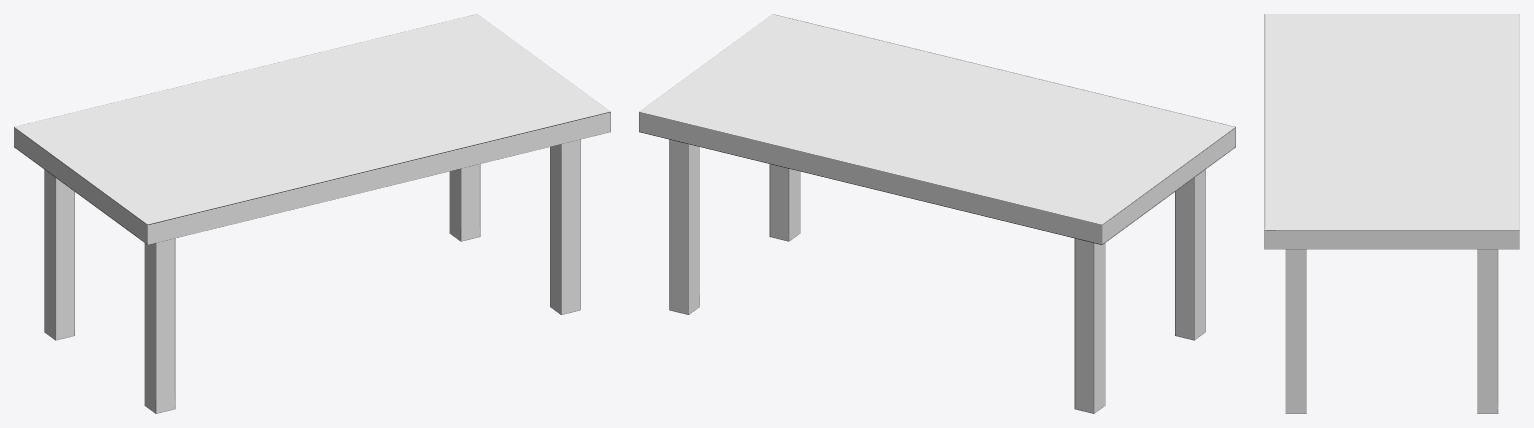
File: table03.gltf
The picture shows the model from 3 angles, left to right: view 1: azimuth 30°, elevation 25°; view 2: azimuth 150°, elevation 25°; view 3: azimuth 270°, elevation 25°; orthographic projection. The views are drawn at different scales.
Visible parts, largest first — view 1: Table; view 2: Table; view 3: Table.
Part boxes in pixels (bbox=[...]): Table: bbox=[14, 14, 610, 413]; Table: bbox=[639, 14, 1235, 413]; Table: bbox=[1264, 14, 1519, 413].
Size of what is drawn, in the model's own units: 2.4 by 1 by 1.2.
5 materials, 5 textured.
